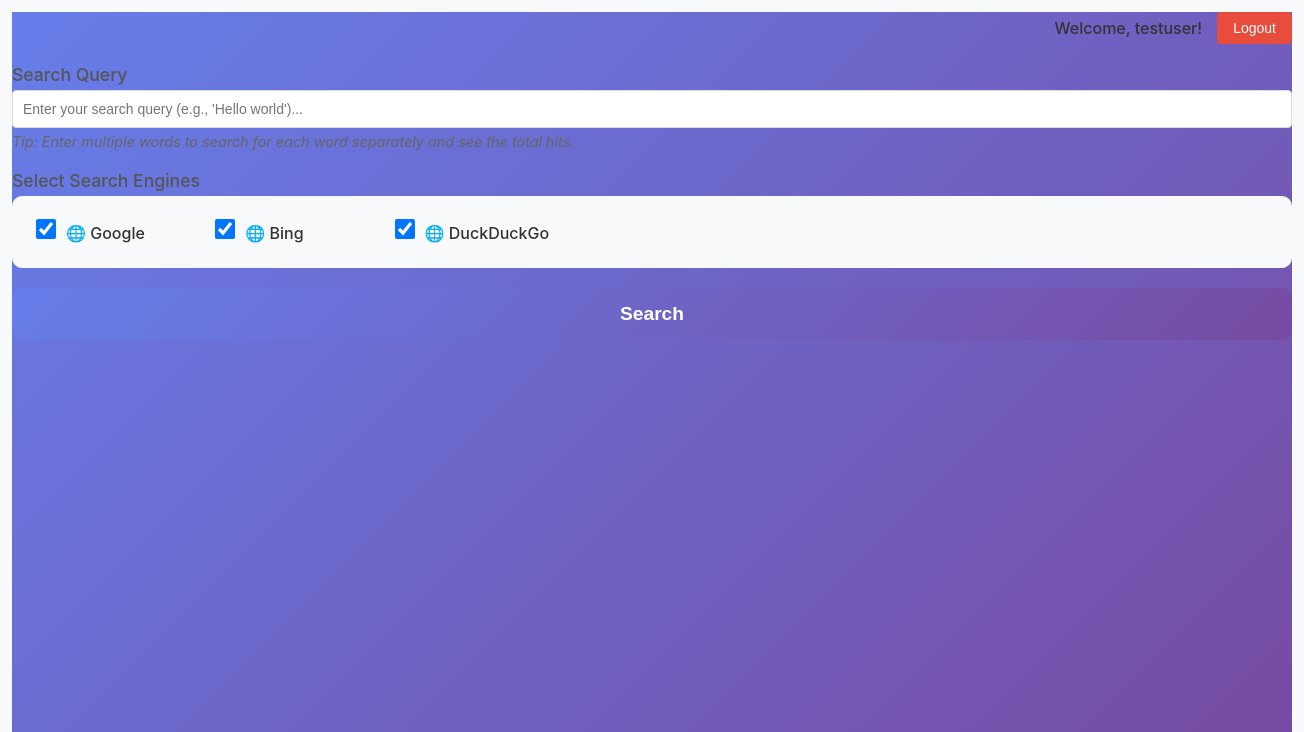
Test: SearchForm Component › Form Validation › should show error when no engines are selected
# Deselect all engines
Click the checkbox with test id "engine-google": (46, 229) x1=36 y1=219 x2=56 y2=239
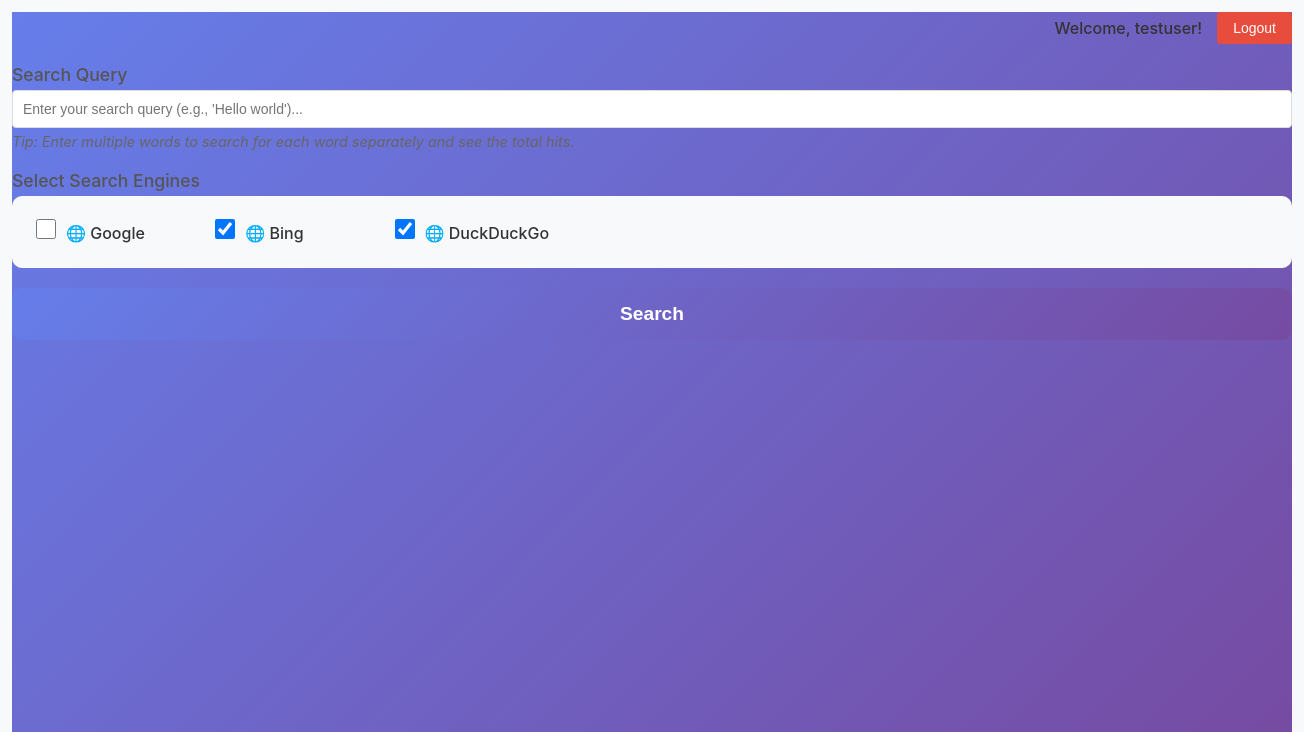
Click the checkbox with test id "engine-bing": (225, 229) x1=215 y1=219 x2=235 y2=239
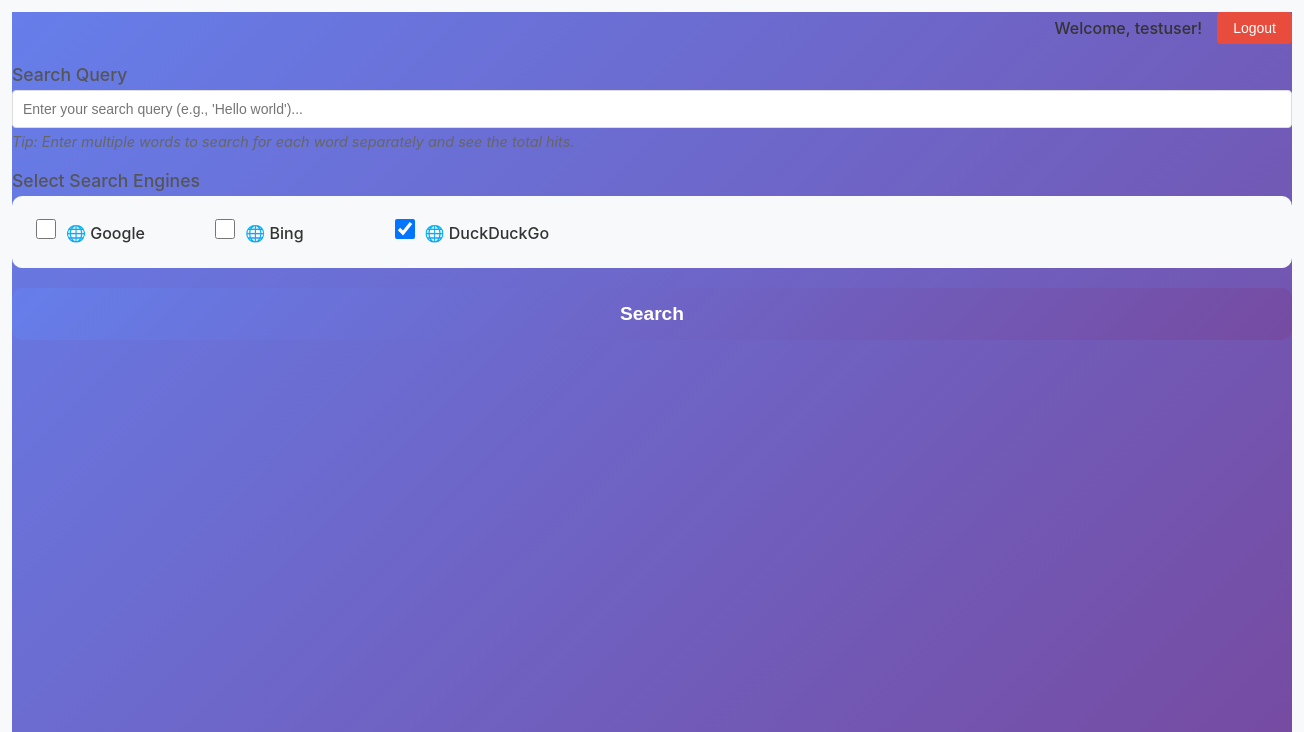
Click the checkbox with test id "engine-duckduckgo": (405, 229) x1=395 y1=219 x2=415 y2=239
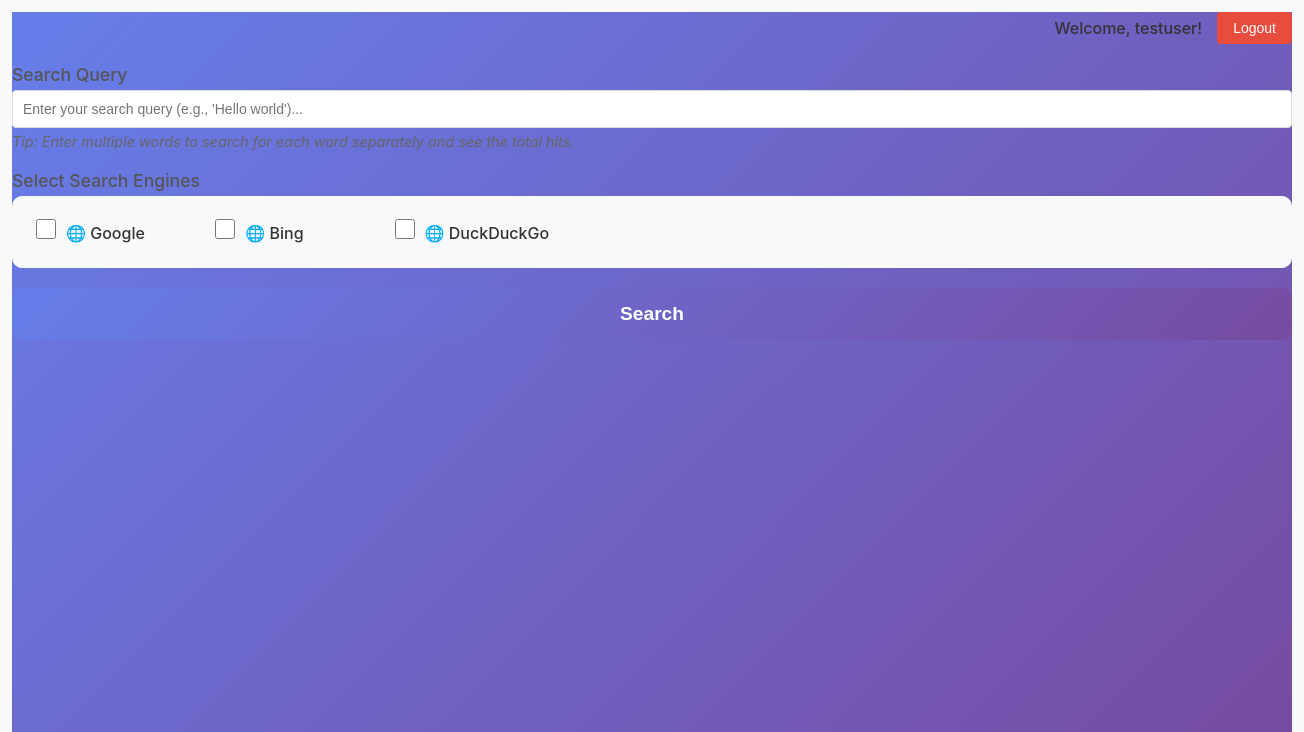
In the field with test id "search-input": (652, 109) x1=12 y1=90 x2=1292 y2=128, type "test query"
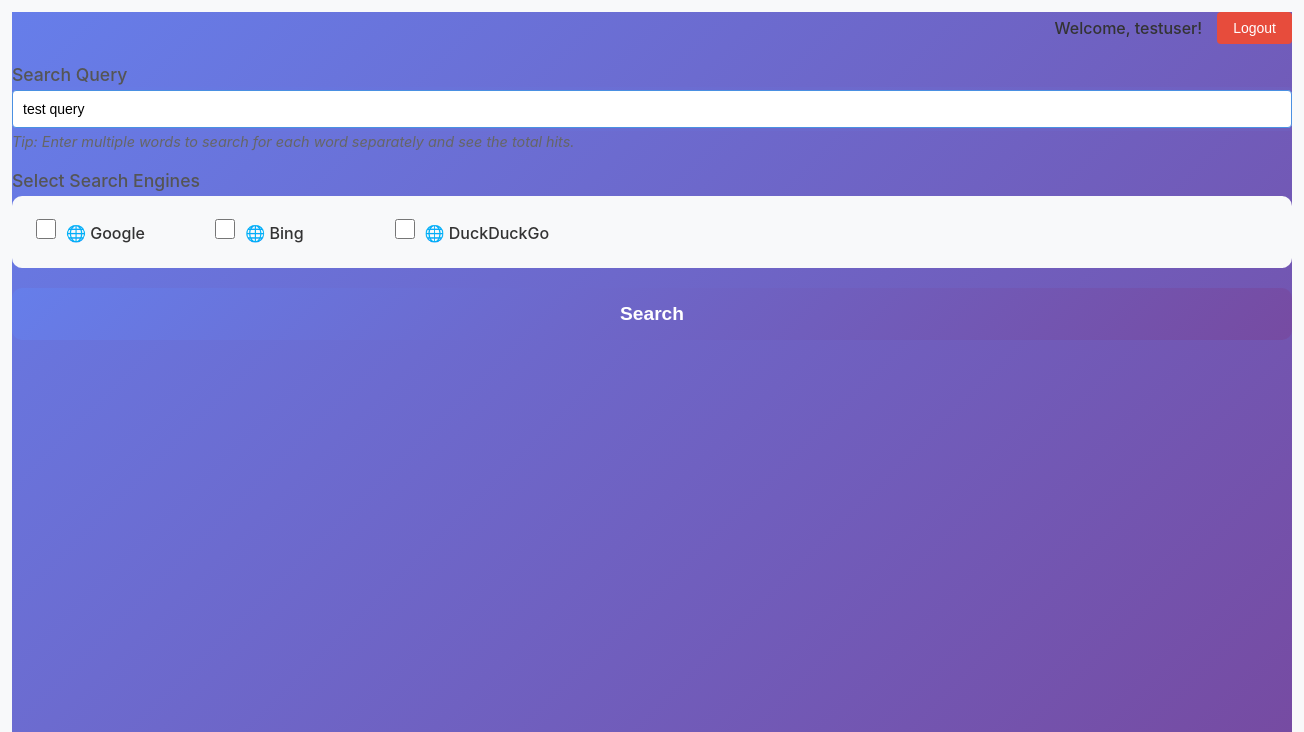
Click the button with test id "search-button": (652, 314) x1=12 y1=288 x2=1292 y2=340
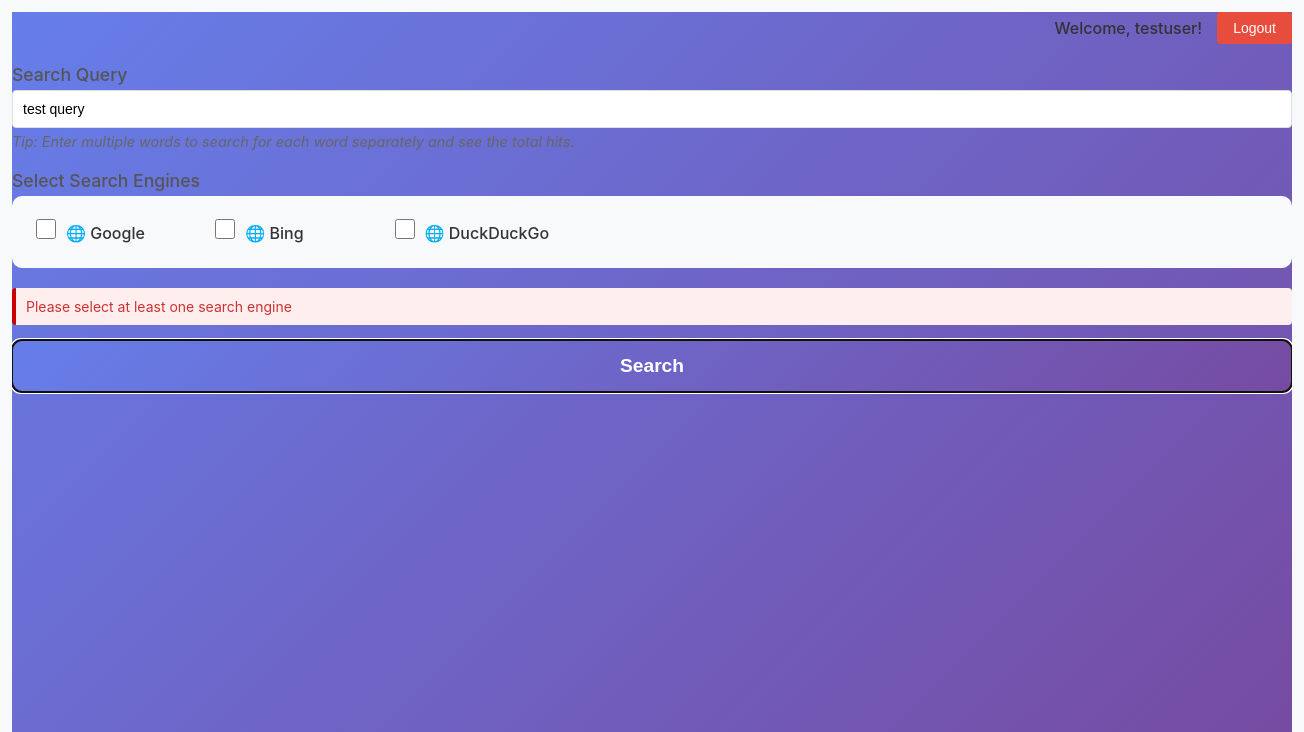
Now the text "Please select at least one search engine" is shown, box x1=12 y1=288 x2=1292 y2=325
